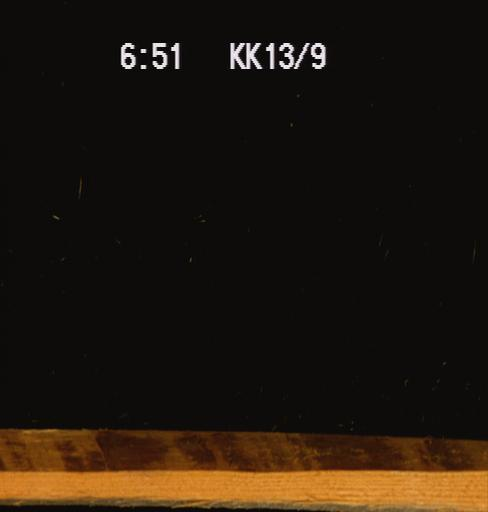wave: (1, 426, 480, 477), (0, 493, 487, 511)
